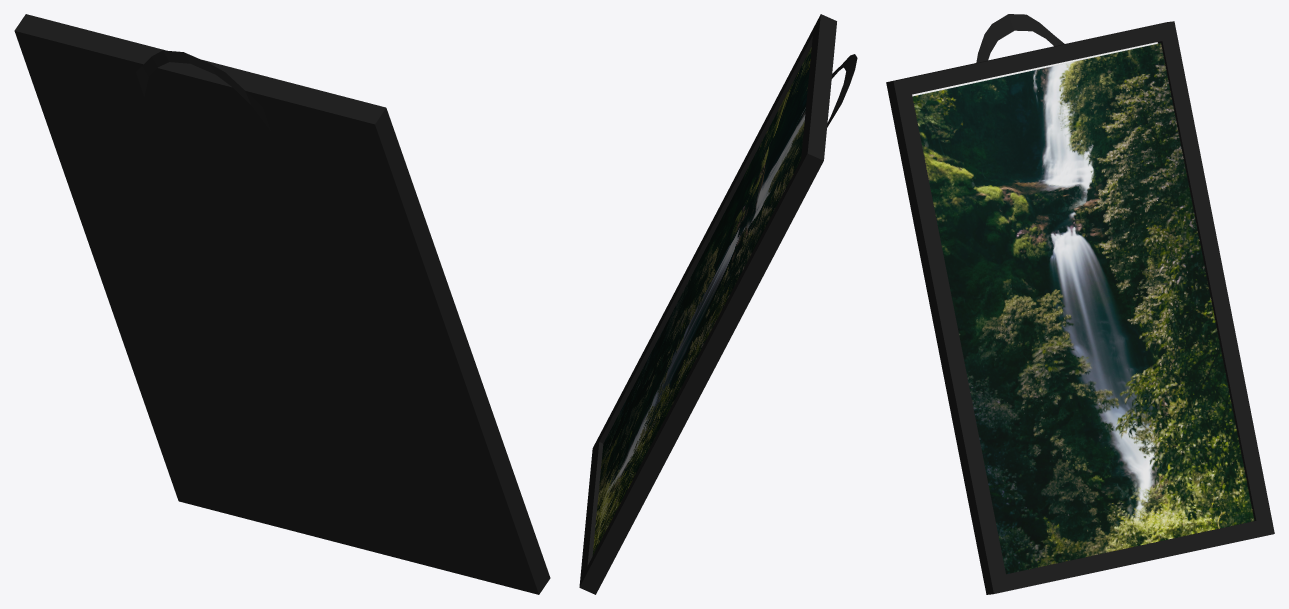
File: frame.glb
3 renders of one model, left to right at view 1: azimuth 30°, elevation 25°; view 2: azimuth 150°, elevation 25°; view 3: azimuth 270°, elevation 25°, orthographic. The views are drawn at different scales.
Visible parts, largest first — view 1: frame.002, frame.001; view 2: frame.002, frame.001; view 3: frame.002, frame.001.
Boxes of the visible parts, left/top/right/bottom form: frame.002: left=14, top=14, right=550, bottom=594; frame.001: left=136, top=50, right=270, bottom=130; frame.002: left=579, top=14, right=836, bottom=594; frame.001: left=827, top=54, right=857, bottom=127; frame.002: left=886, top=21, right=1274, bottom=594; frame.001: left=976, top=14, right=1064, bottom=62.
Bounding box in the file's own units: 0.164 × 0.2308 × 0.177.
Materials: 5 (1 with a texture image).
